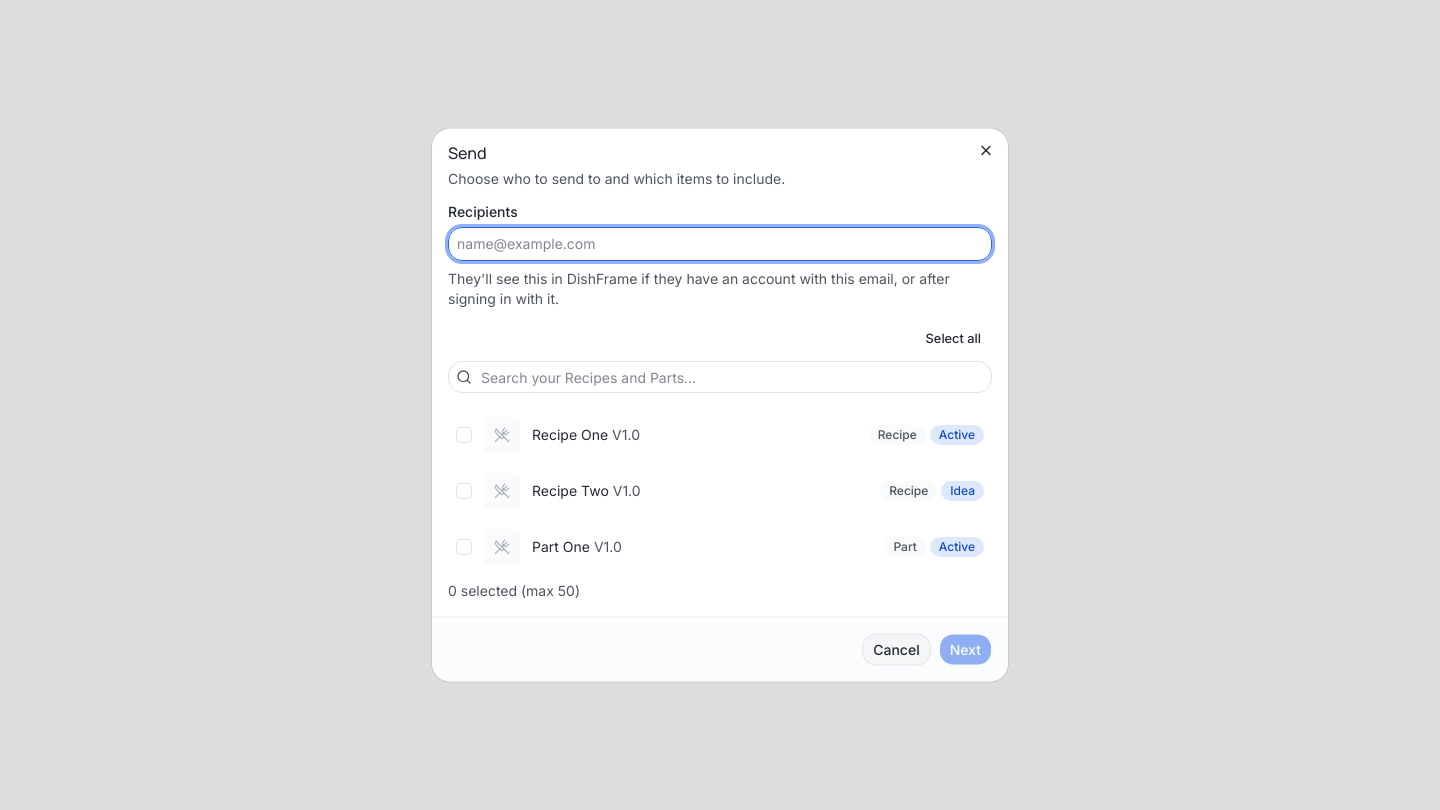
DirectShareCollectionDialog › on operation-level failure, keeps the dialog open and shows an error toast
Expected: the text "Recipe One" is shown, [532,426,608,442]
Type "person@example.invalid" into the field labelled "Recipients" at (720,244), box [457,234,983,254]
Then press Enter
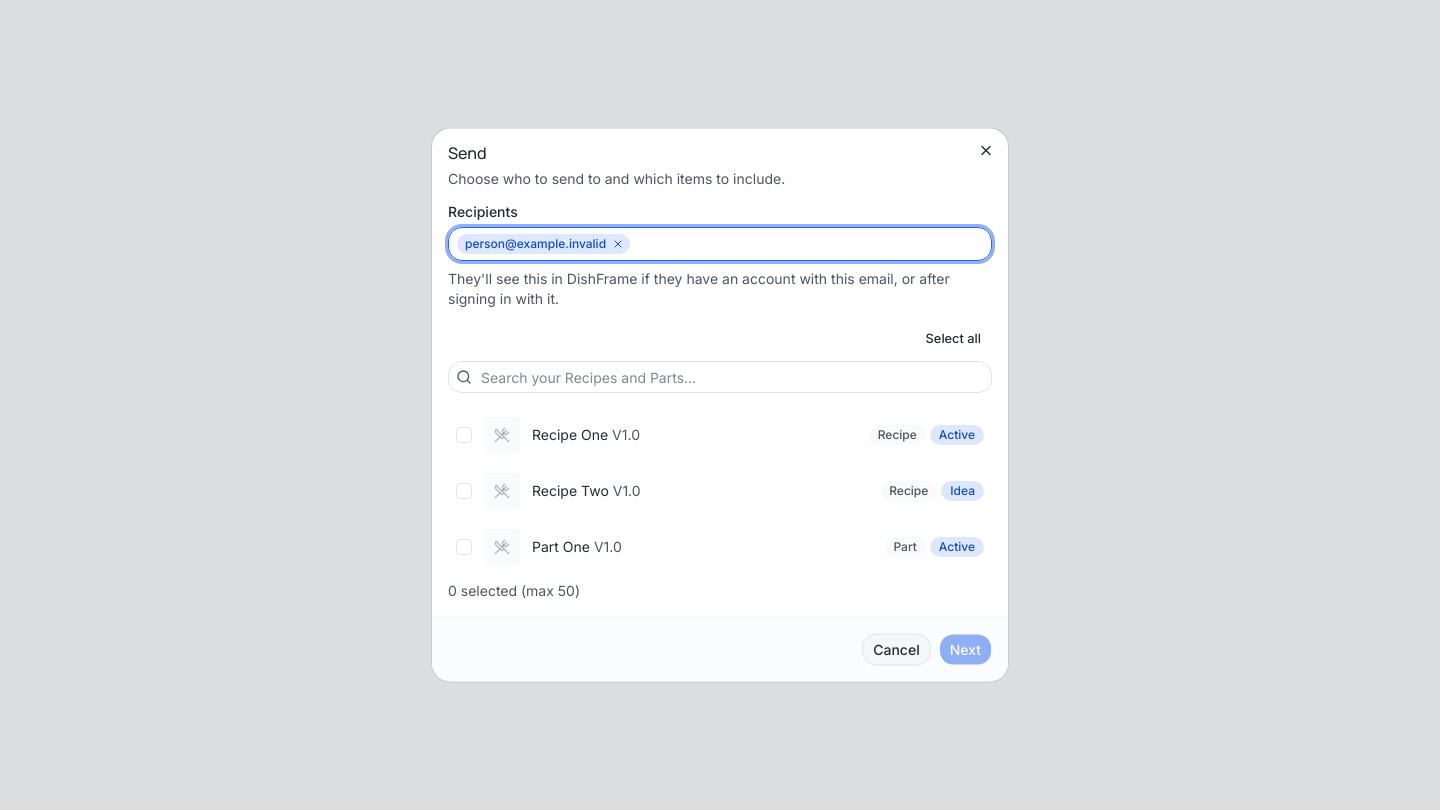
Click the checkbox named "Select Recipe One" at (464,434), box [456,426,472,442]
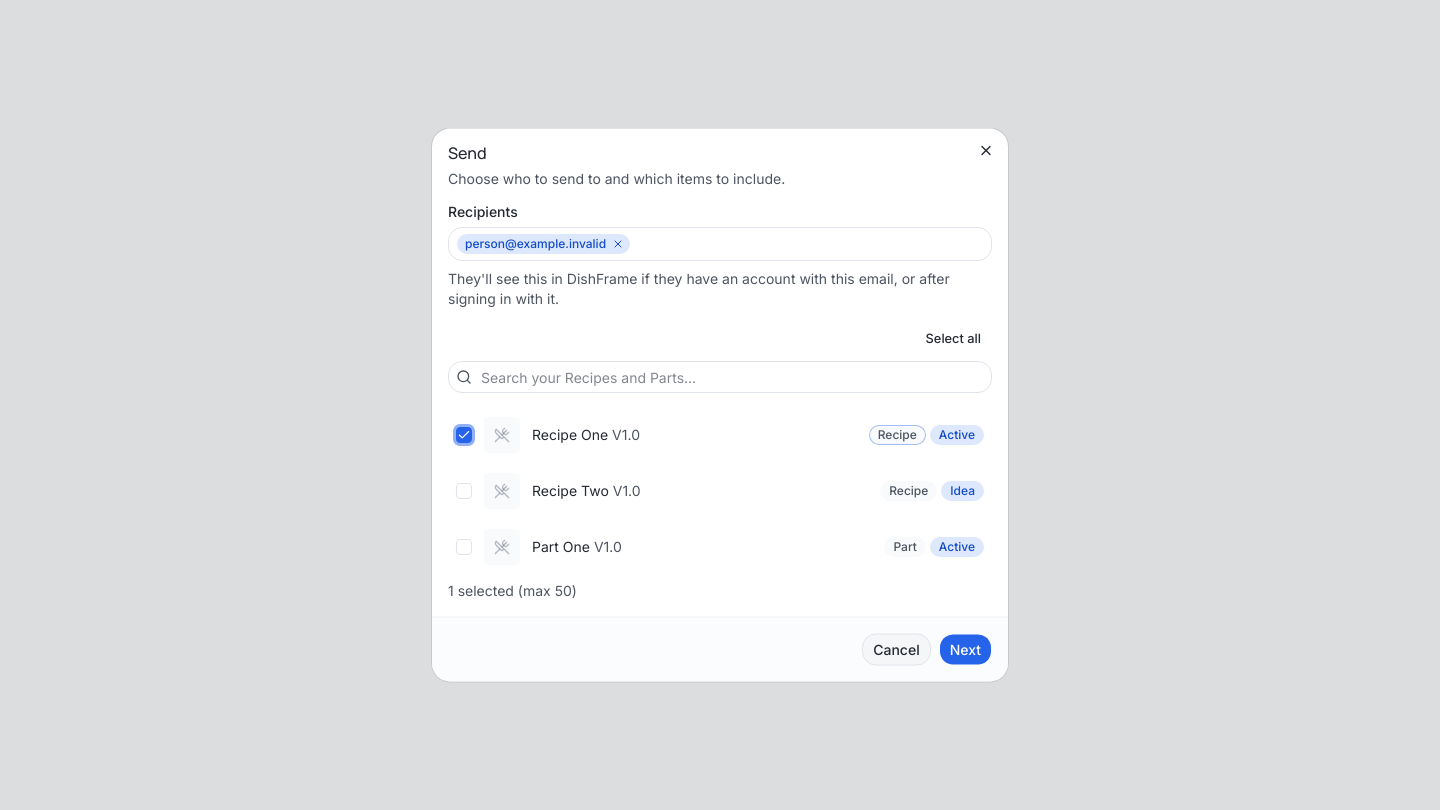
Expected: the button "Next" is enabled
Click the button "Next" at (965,650), box [939,634,992,666]
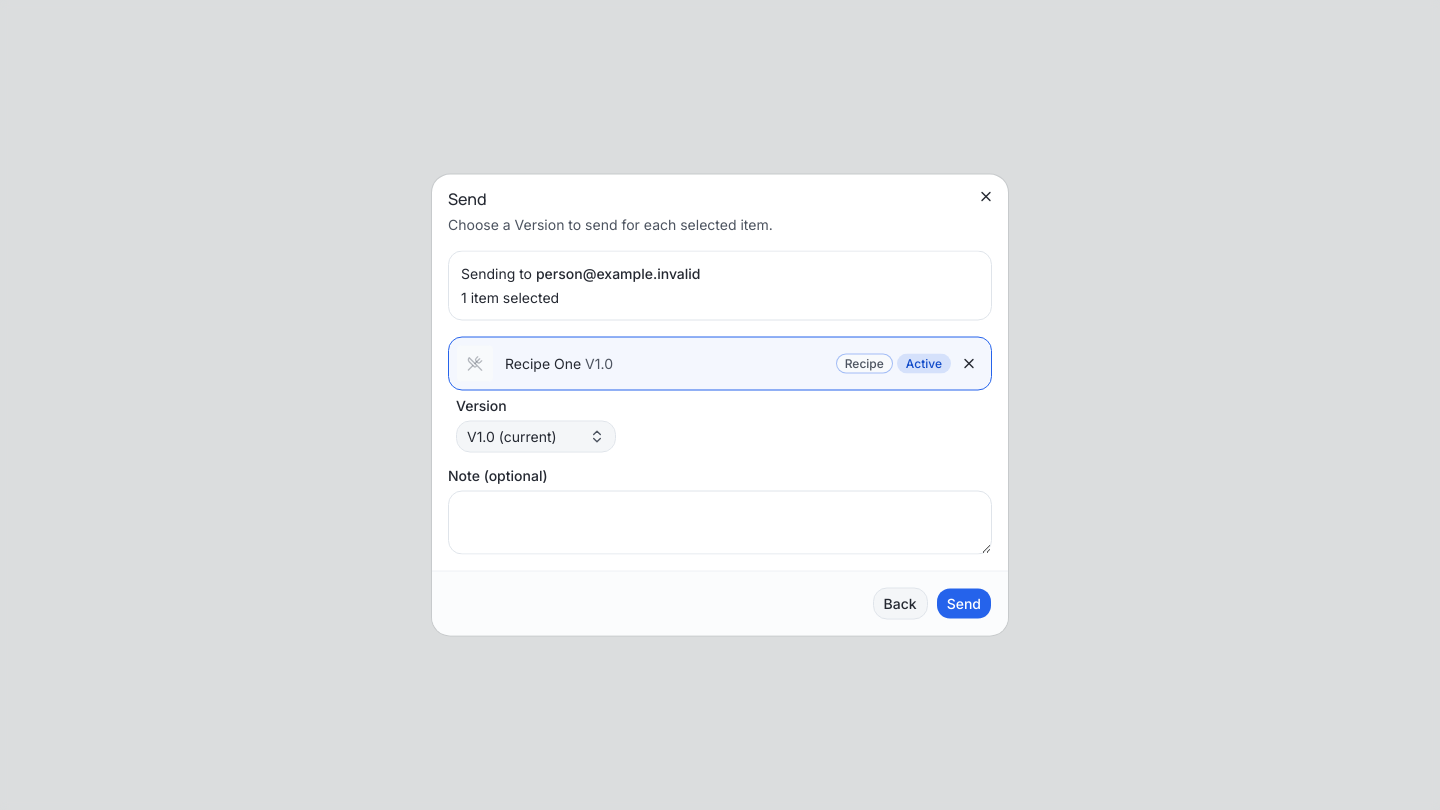
Expected: the dropdown is enabled, [456,420,616,452]
Click the button "Send" at (964,604), box [936,588,992,620]
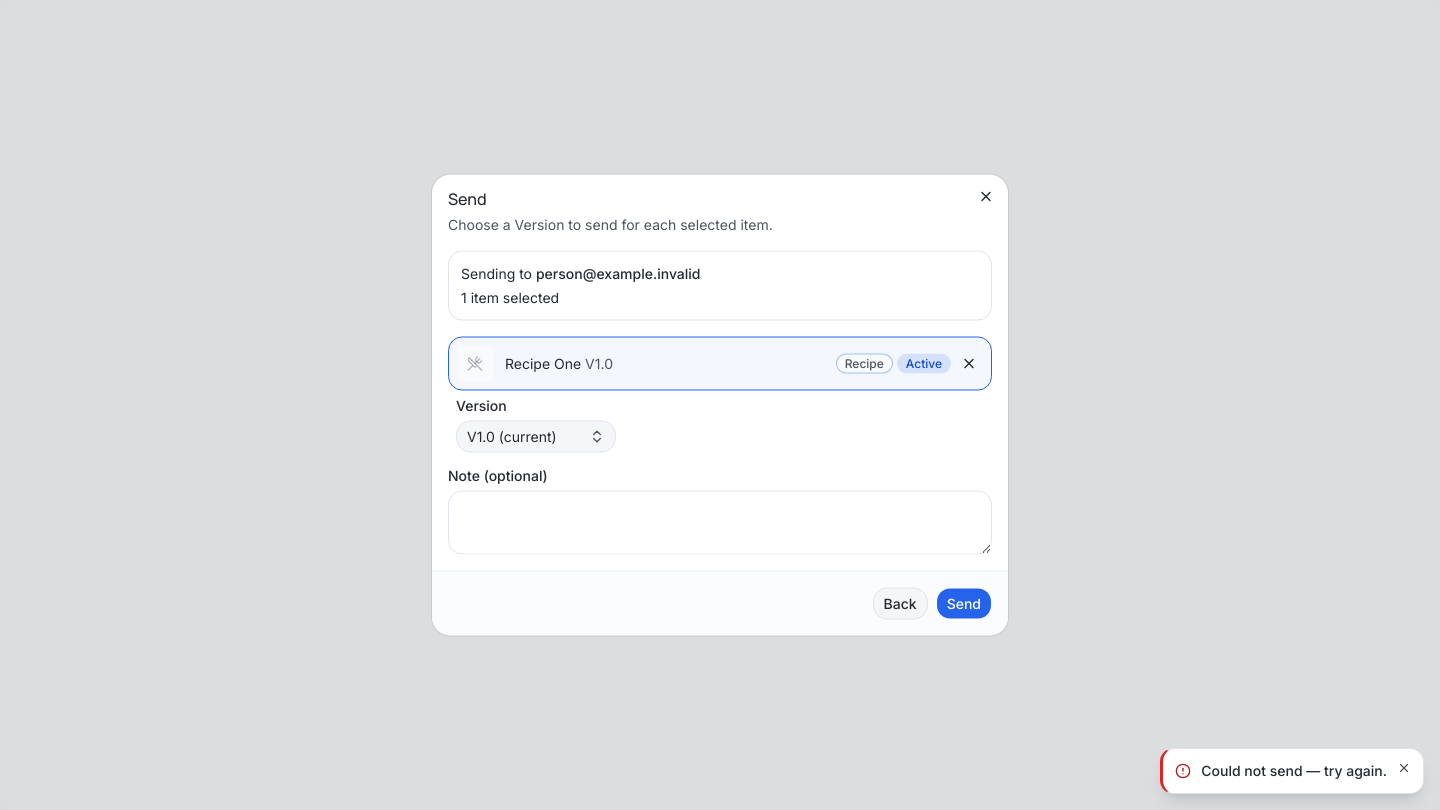
Expected: the button "Send" is shown, [936,588,992,620]
Expected: the text "Could not send — try again." is shown, [1201,761,1387,781]
